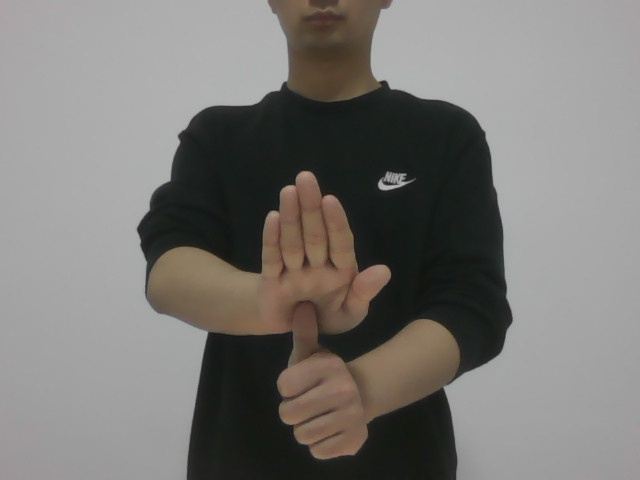love: (252, 148, 387, 471)
